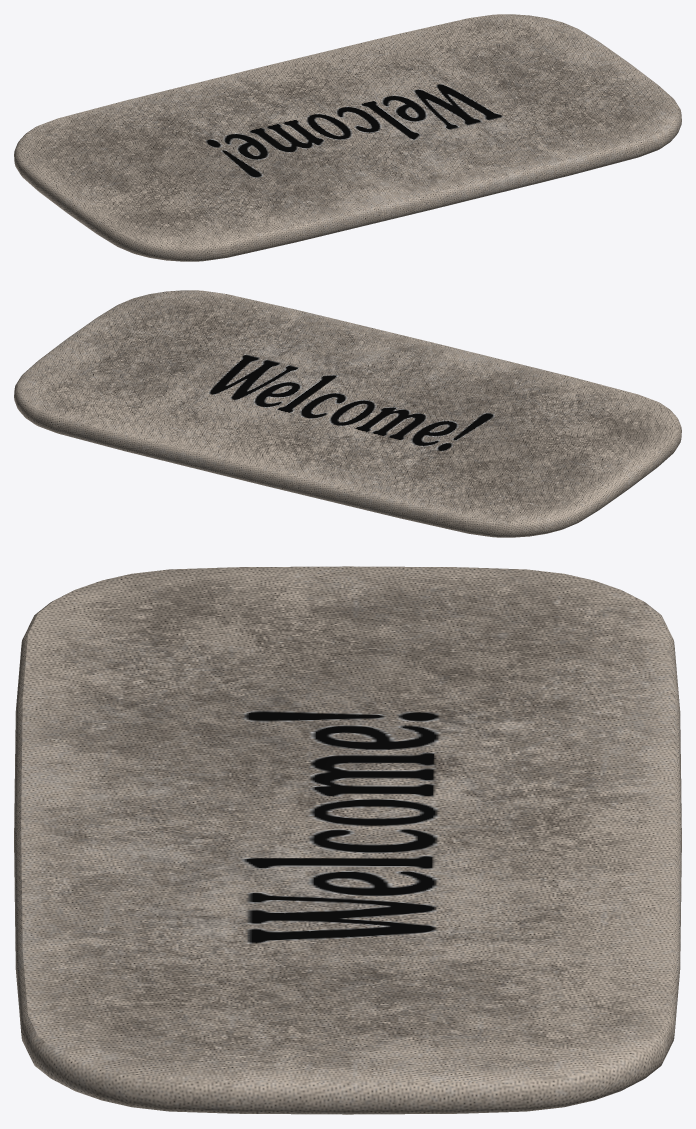
The model's file is WelcomeMat_low.fbx.
The picture shows the model from 3 angles, top to bottom: view 1: azimuth 30°, elevation 25°; view 2: azimuth 150°, elevation 25°; view 3: azimuth 270°, elevation 25°; orthographic projection. The views are drawn at different scales.
Visible parts, largest first — view 1: WelcomeMat_low; view 2: WelcomeMat_low; view 3: WelcomeMat_low.
Boxes of the visible parts, x1,y1,x2,y2 form: WelcomeMat_low: (14,14,681,261); WelcomeMat_low: (14,290,681,537); WelcomeMat_low: (14,566,681,1114).
Size of the model in its own units: 76.27 by 2.27 by 41.
